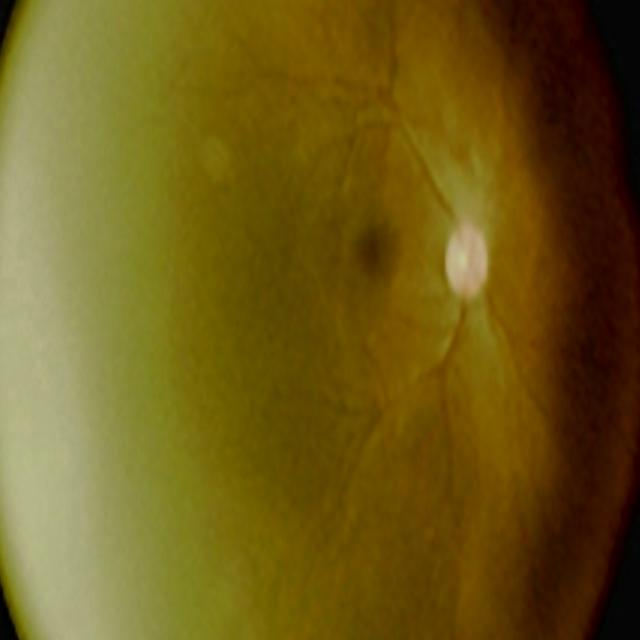optic-nerve: (414, 162, 514, 362)
